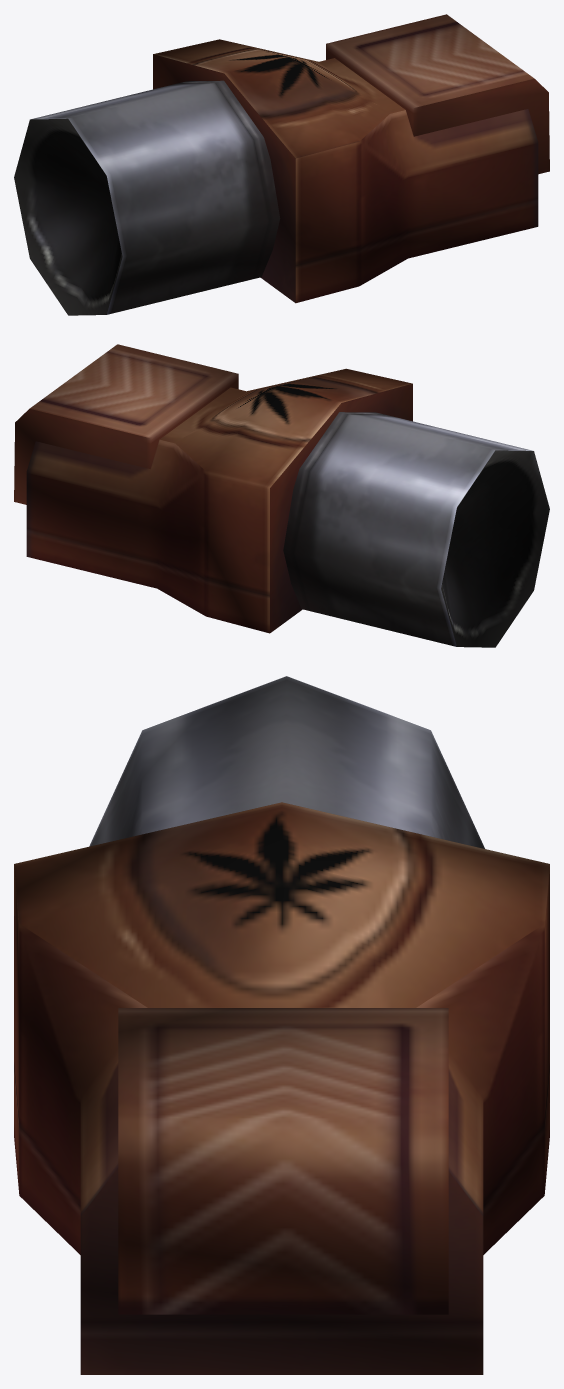
Rendered from drug_inhilator.glb.
3 renders of one model, top to bottom at view 1: azimuth 30°, elevation 25°; view 2: azimuth 150°, elevation 25°; view 3: azimuth 270°, elevation 25°, orthographic. The views are drawn at different scales.
Parts seen in each view (by area): view 1: Box04; view 2: Box04; view 3: Box04.
Part boxes in pixels (x1,y1,x2,y2): Box04: [14, 14, 549, 315]; Box04: [14, 344, 549, 647]; Box04: [14, 676, 549, 1374].
Size of the model in its own units: 6.75 by 3.03 by 3.82.
1 material, 1 textured.
